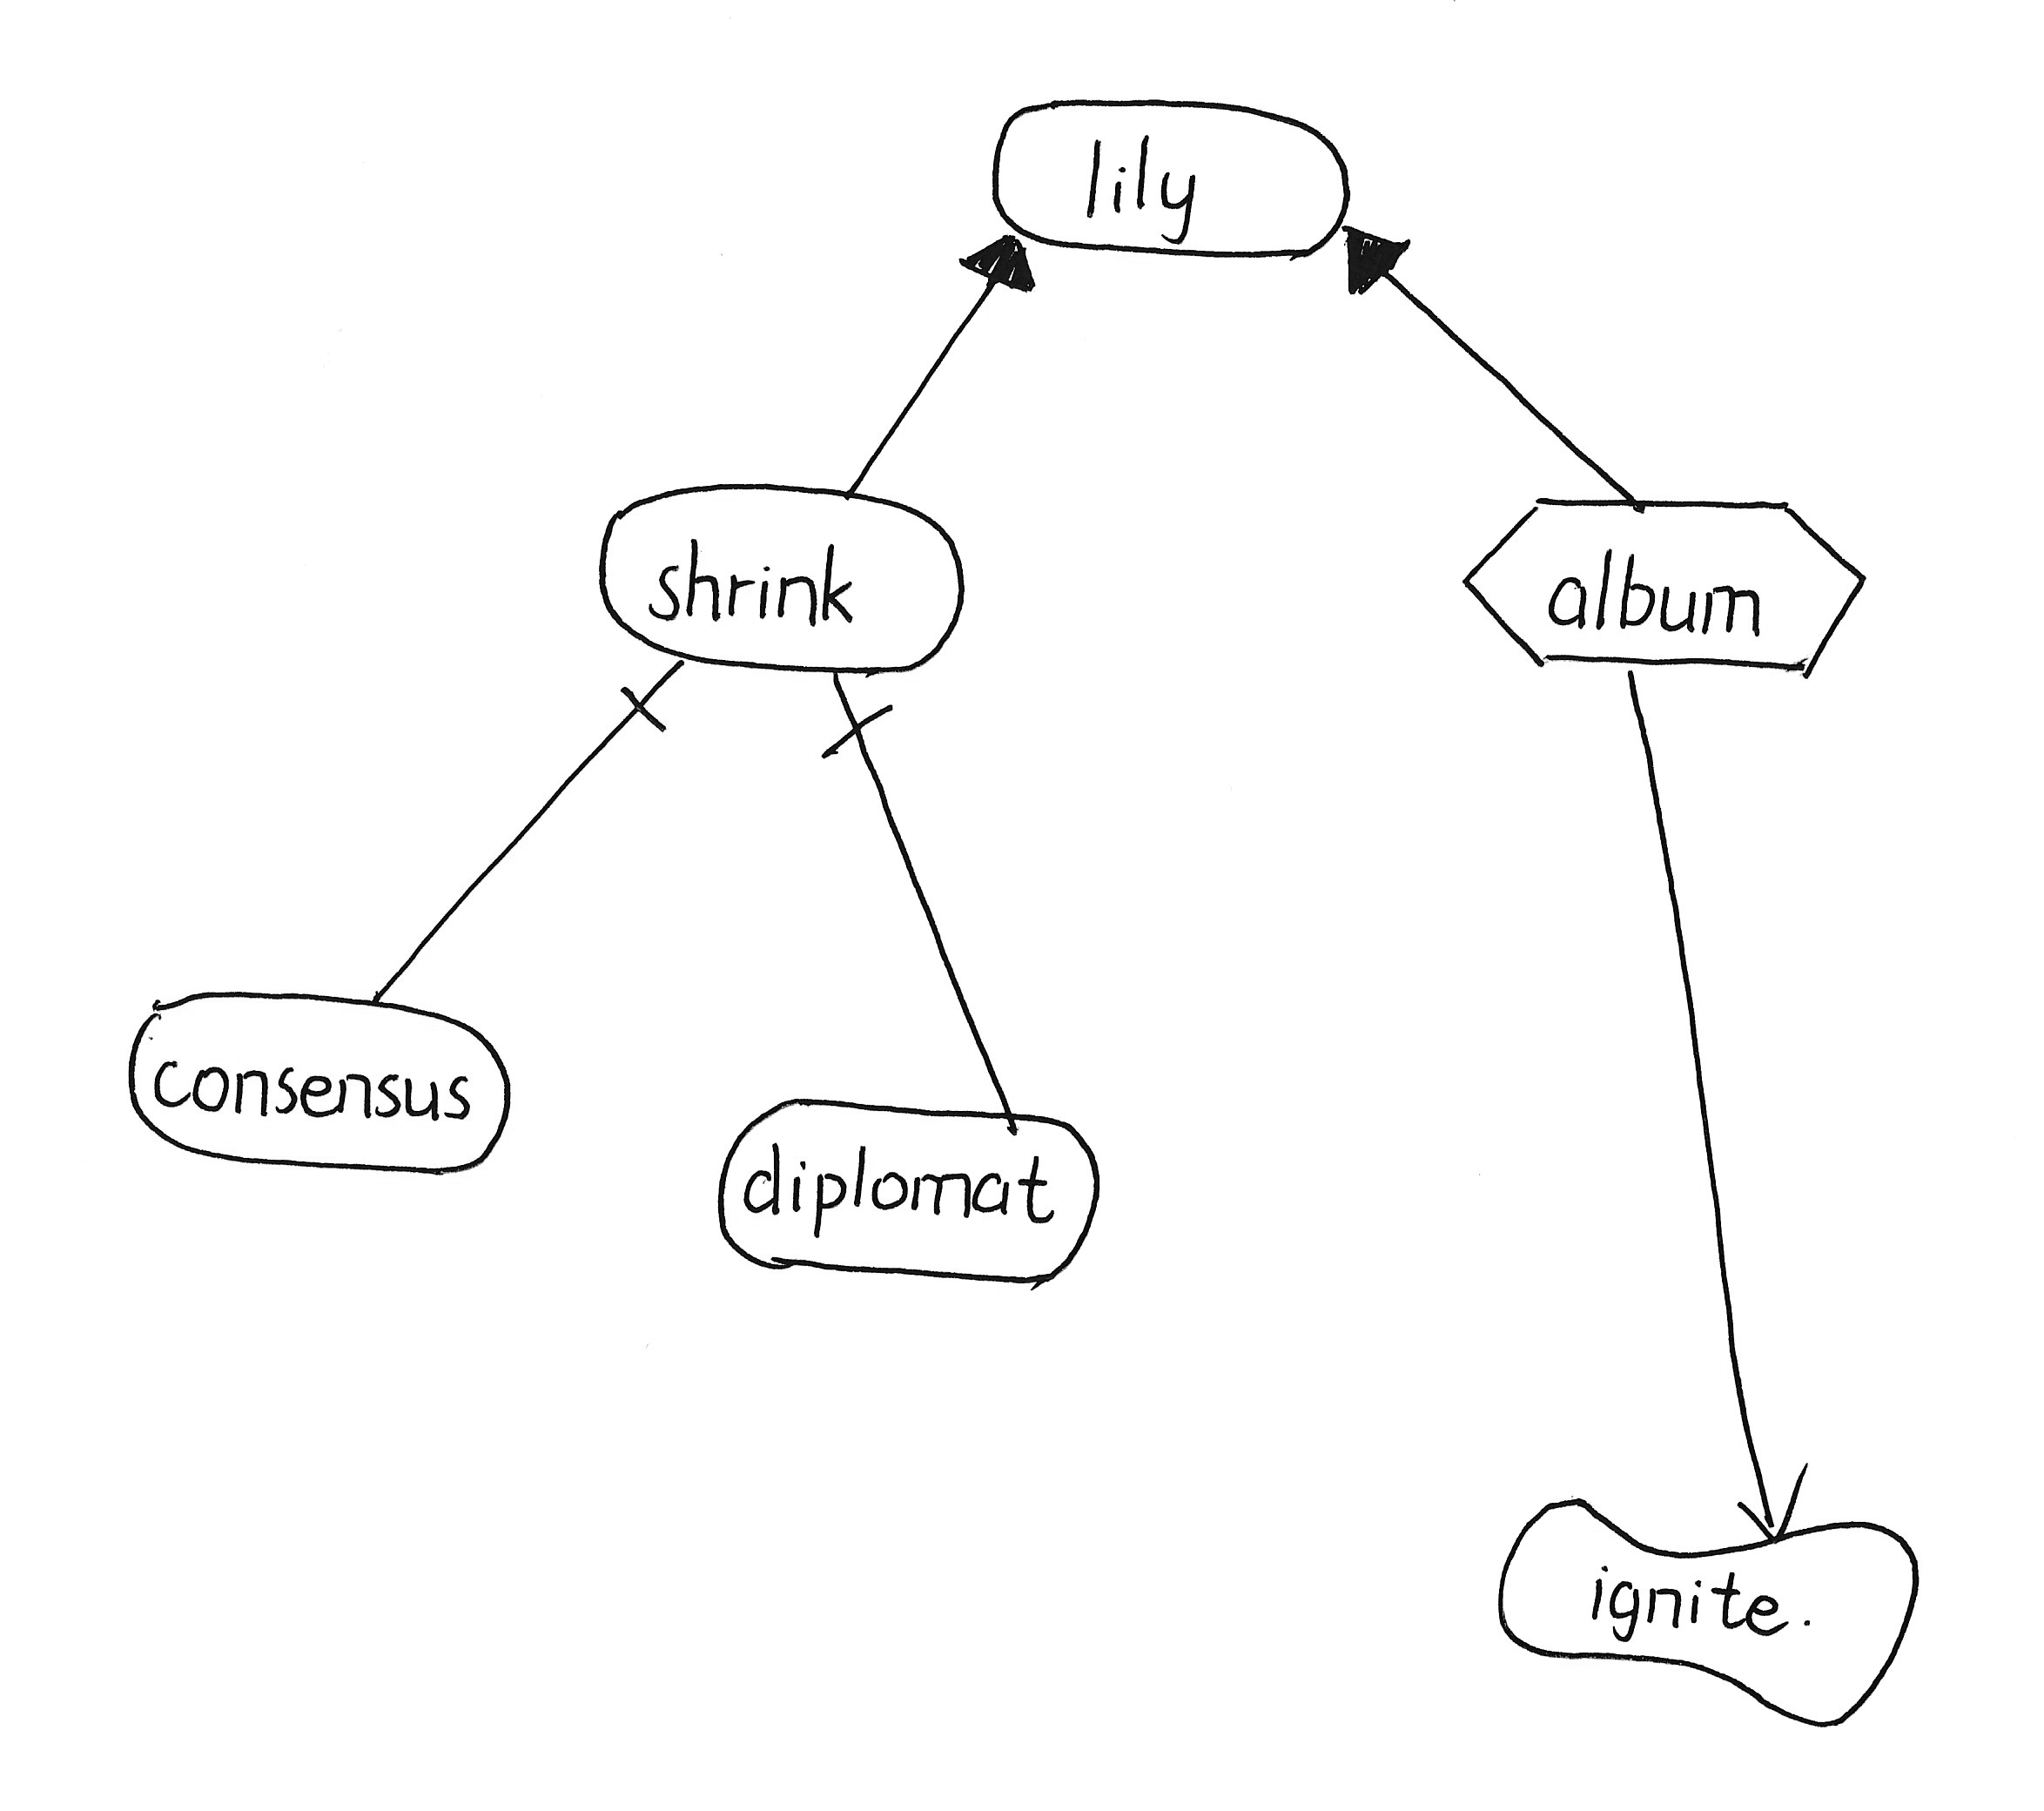and: (797, 673, 915, 783), (594, 657, 690, 764)
arrow: (1721, 1449, 1820, 1556)
goal: (110, 974, 524, 1197), (582, 465, 980, 690), (704, 1084, 1111, 1304), (982, 77, 1368, 278)
or: (940, 219, 1059, 316), (1328, 210, 1427, 315)
quality: (1487, 1481, 1930, 1743)
task: (1452, 477, 1880, 694)
